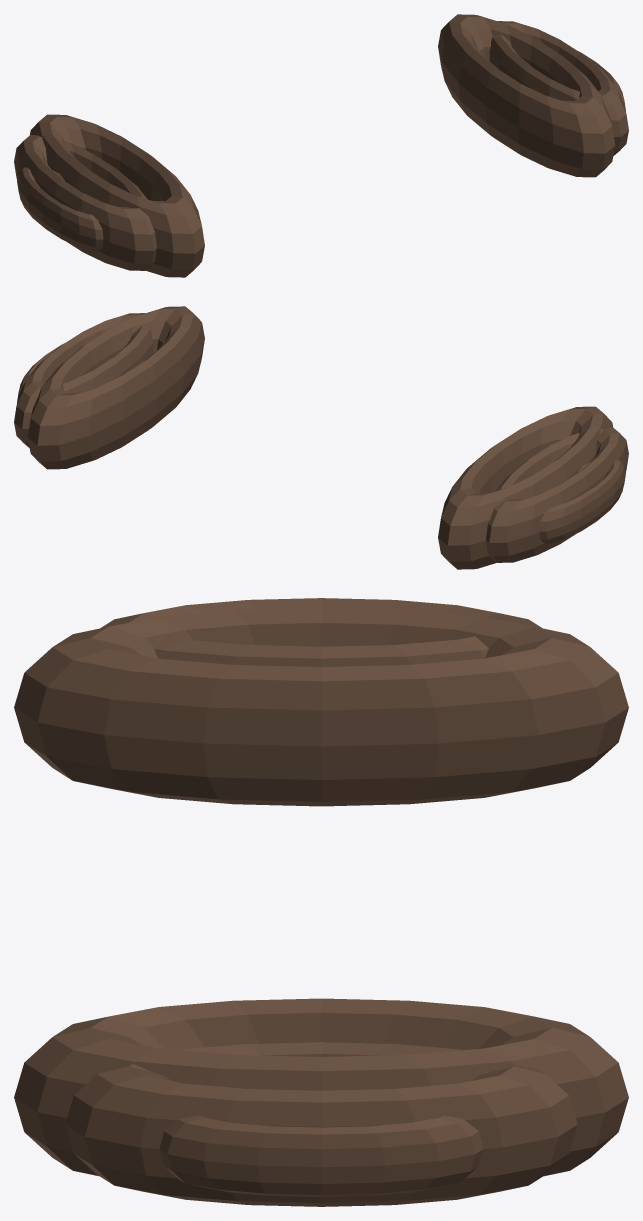
File: leia_buns.glb
The picture shows the model from 3 angles, top to bottom: view 1: azimuth 30°, elevation 25°; view 2: azimuth 150°, elevation 25°; view 3: azimuth 270°, elevation 25°; orthographic projection. The views are drawn at different scales.
Visible parts, largest first — view 1: leia_buns; view 2: leia_buns; view 3: leia_buns.
Part boxes in pixels (<box>): leia_buns: <box>14,14,628,277</box>; leia_buns: <box>14,306,628,569</box>; leia_buns: <box>14,598,628,1206</box>.
Bounding box in the file's own units: 0.489 × 0.06 × 0.24.
